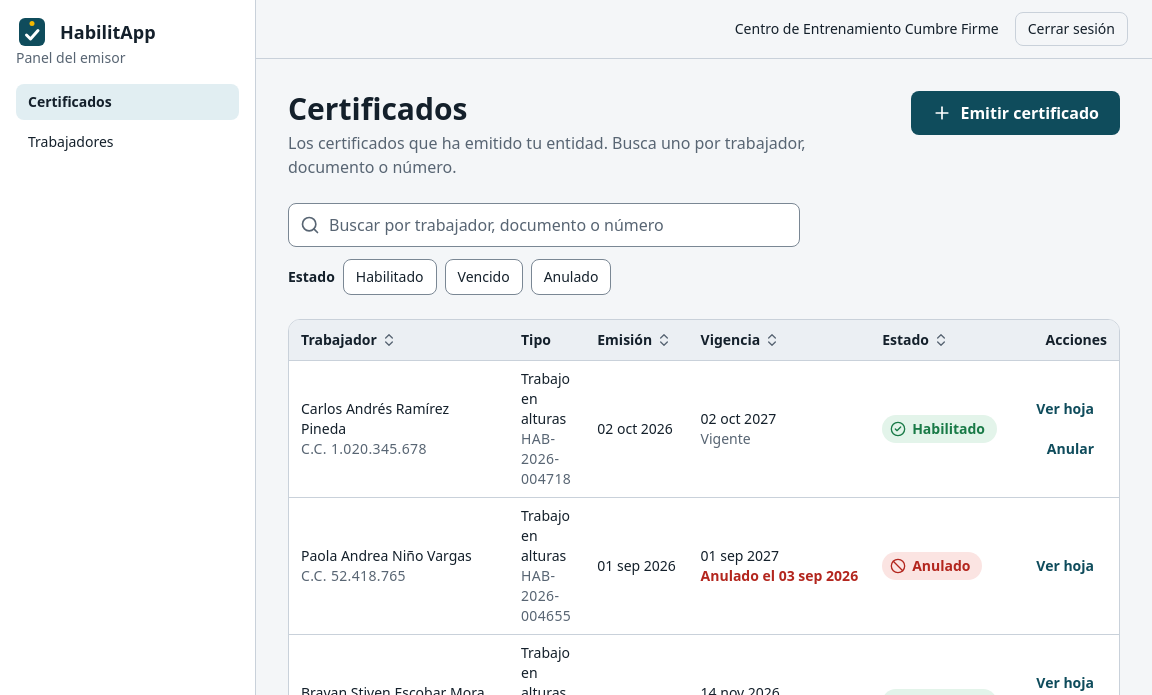
Test case: CertificatesPage › annulling › annuls once even on a double click, shows the toast and the row becomes Anulado after the refresh
Click the button with aria-label "Anular el certificado HAB-2026-004718" at (1070, 448), box [1034,430,1107,466]
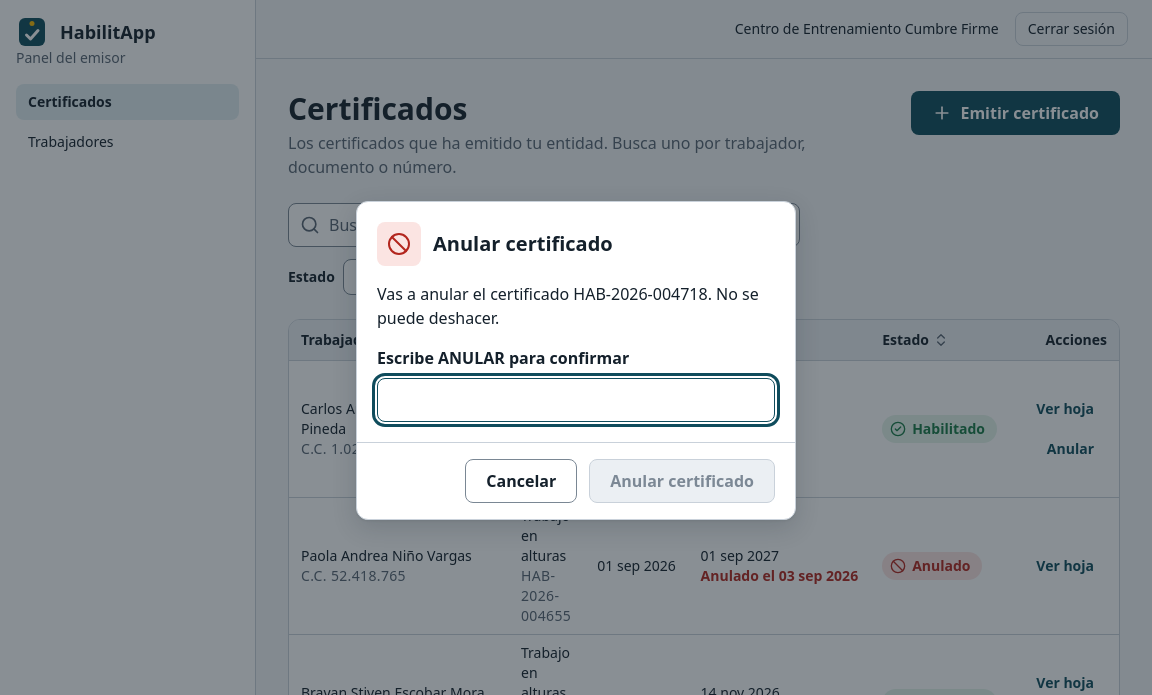
Type "anular" into the field labelled "Escribe ANULAR para confirmar" at (576, 400), box [377,378,775,422]
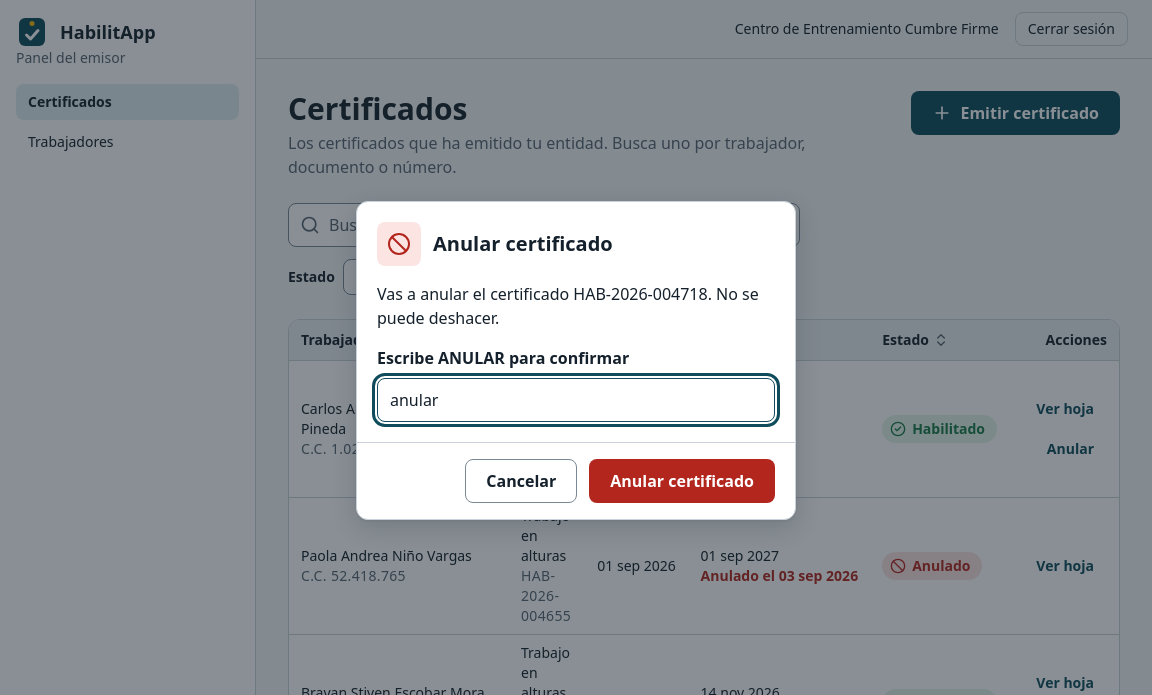
Click the button "Anular certificado" at (682, 480), box [589,458,775,502]
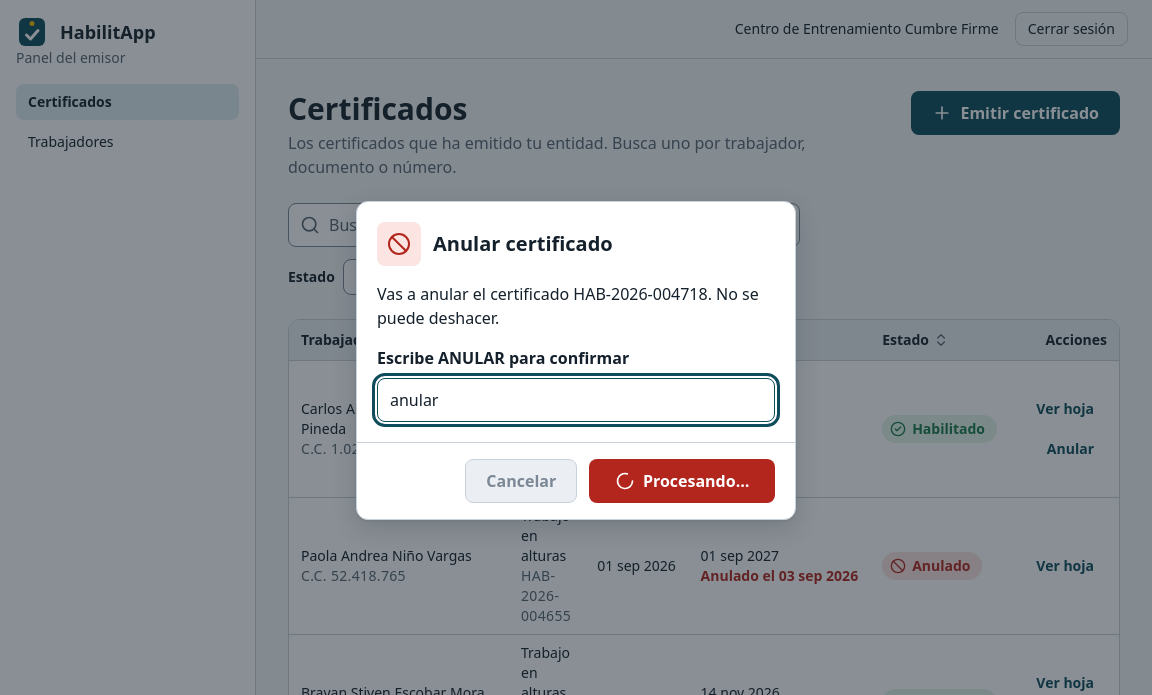
Now the button "Cancelar" is disabled, box [465,458,577,502]
Click the button named "Anular certificado" at (682, 480), box [589,458,775,502]
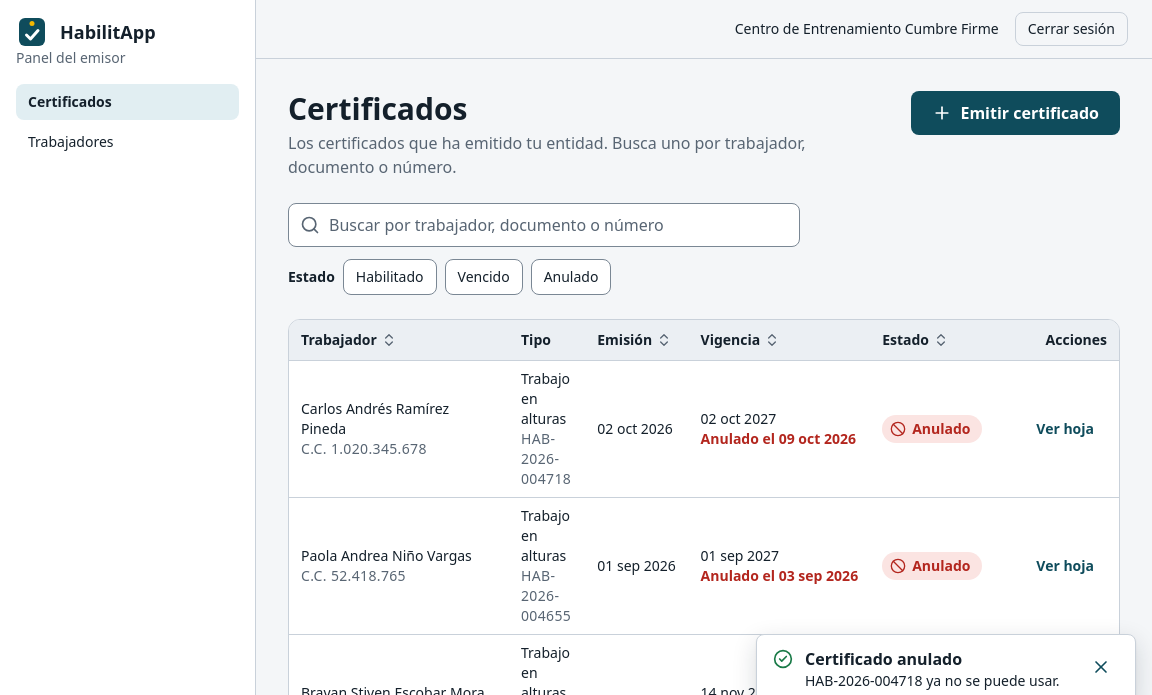
Now the text "Certificado anulado" is shown, box [805,648,962,670]
Now the text "HAB-2026-004718 ya no se puede usar." is shown, box [805,671,1060,690]
Now the row that starts with "Carlos Andrés Ramírez Pineda" shows "Anulado", box [912,418,970,438]
